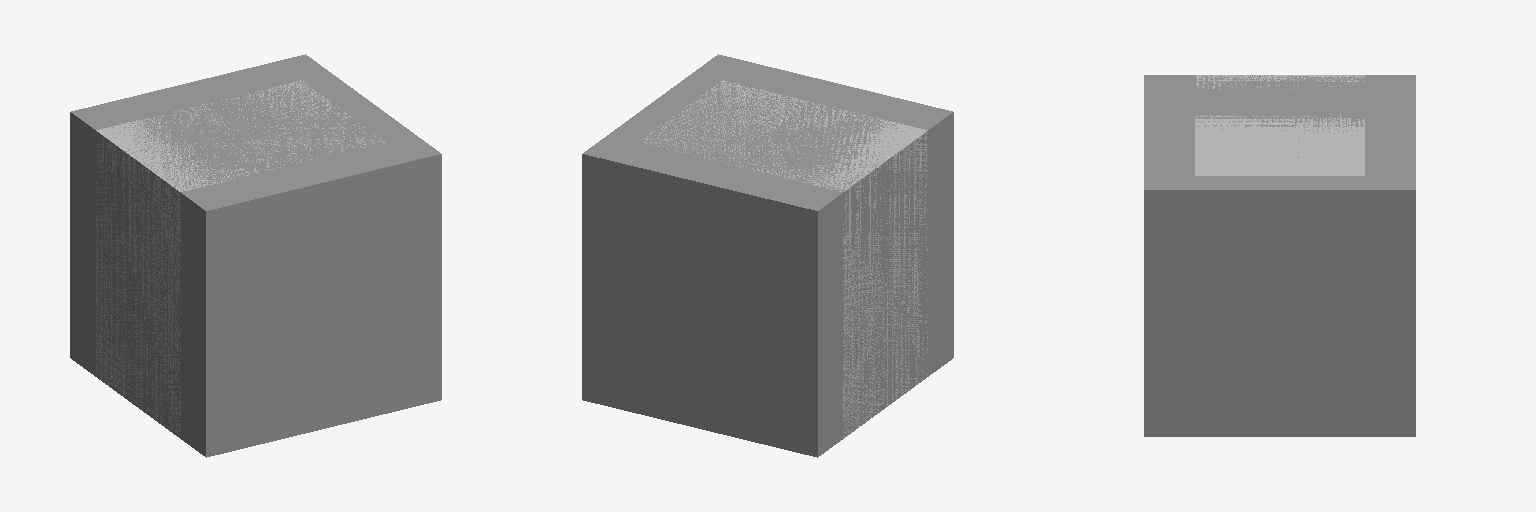
Rendered from relay800.obj.
The picture shows the model from 3 angles: view 1: azimuth 30°, elevation 25°; view 2: azimuth 150°, elevation 25°; view 3: azimuth 270°, elevation 25°; orthographic projection.
Visible parts, largest first — view 1: Minecraft_Block_Cube, Minecraft_2_Edge_Connectivity_Cube.002, main; view 2: Minecraft_Block_Cube, Minecraft_2_Edge_Connectivity_Cube.002, main; view 3: Minecraft_Block_Cube, main, Minecraft_2_Edge_Connectivity_Cube.002.
Part boxes in pixels (bbox=[...]): Minecraft_Block_Cube: bbox=[71, 54, 441, 457]; Minecraft_2_Edge_Connectivity_Cube.002: bbox=[70, 112, 254, 456]; main: bbox=[96, 80, 385, 438]; Minecraft_Block_Cube: bbox=[582, 54, 952, 457]; Minecraft_2_Edge_Connectivity_Cube.002: bbox=[768, 112, 953, 456]; main: bbox=[639, 80, 927, 437]; Minecraft_Block_Cube: bbox=[1144, 75, 1415, 436]; main: bbox=[1195, 75, 1364, 175]; Minecraft_2_Edge_Connectivity_Cube.002: bbox=[1146, 75, 1414, 129].
Bounding box in the file's own units: 1 × 1 × 1.